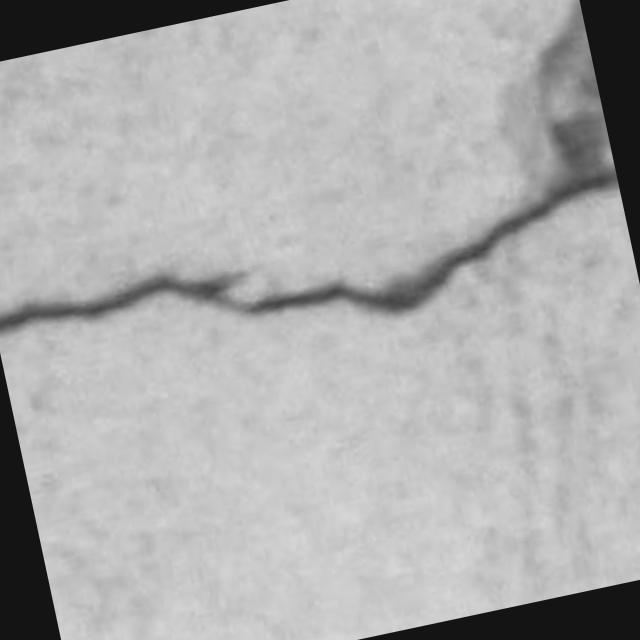crack: (0, 170, 618, 333)
